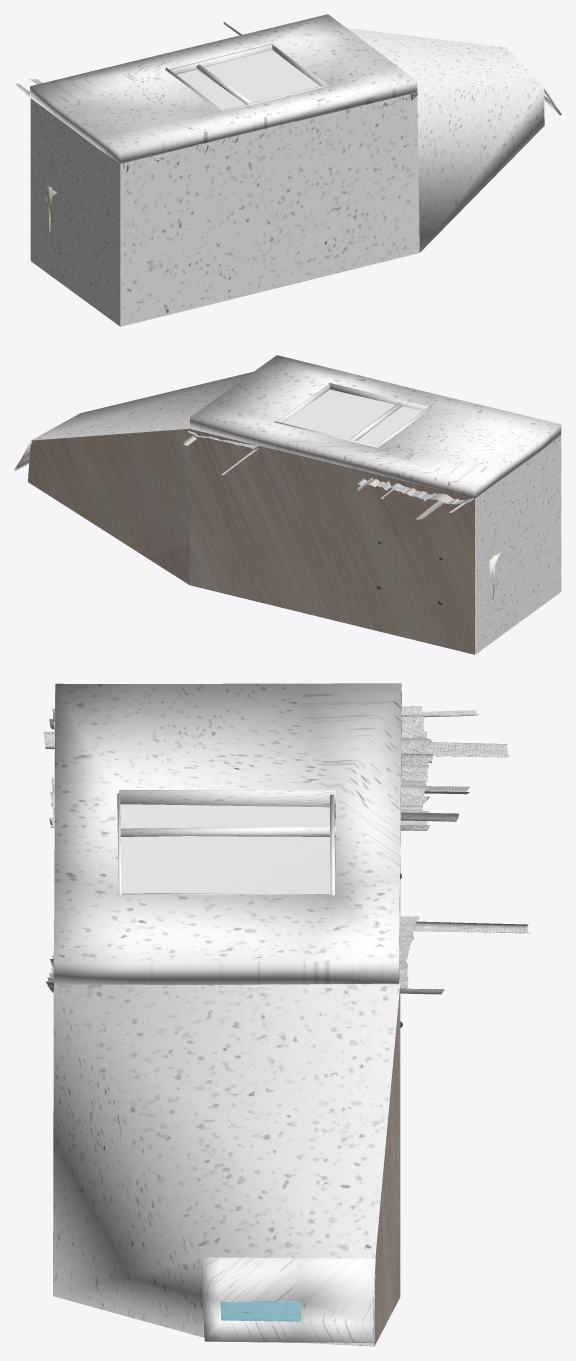
The model's file is DeathBedVR.AutoSave.00-28.obj.
3 views of the same model, one above another, from view 1: azimuth 30°, elevation 25°; view 2: azimuth 150°, elevation 25°; view 3: azimuth 270°, elevation 25° (orthographic). The views are drawn at different scales.
Visible parts, largest first — view 1: s.0363, s.0142Thicken, s.0267, s.0140, s.0446, p.0380; view 2: s.0265, s.0142Thicken, s.0337, s.0140, s.0267, s.0446, s.0428, p.0383; view 3: s.0267, s.0142Thicken, s.0446, s.11291Thicken, s.0337, p.0384, s.0428, p.0375, s.11297, s.0420, s.0435, s.0436.
Part boxes in pixels (x1,y1,x2,y2): s.0363: [120, 91, 419, 326]; s.0142Thicken: [30, 14, 417, 163]; s.0267: [347, 28, 544, 252]; s.0140: [30, 98, 120, 326]; s.0446: [177, 50, 319, 110]; p.0380: [165, 43, 274, 74]; s.0265: [189, 429, 474, 654]; s.0142Thicken: [190, 355, 561, 498]; s.0337: [28, 429, 189, 584]; s.0140: [475, 436, 561, 654]; s.0267: [31, 371, 274, 449]; s.0446: [283, 389, 423, 445]; s.0428: [357, 439, 560, 504]; p.0383: [328, 383, 432, 410]; s.0267: [53, 984, 400, 1346]; s.0142Thicken: [53, 683, 401, 984]; s.0446: [120, 804, 330, 893]; s.11291Thicken: [202, 1257, 375, 1342]; s.0337: [374, 986, 400, 1346]; p.0384: [119, 790, 335, 817]; s.0428: [49, 706, 433, 830]; p.0375: [120, 826, 335, 837]; s.11297: [221, 1301, 300, 1321]; s.0420: [46, 916, 419, 992]; s.0435: [43, 731, 508, 757]; s.0436: [53, 921, 530, 933].
Size of the model in its own units: 11485 by 3971 by 5174.
Materials: 16 (10 with a texture image).
